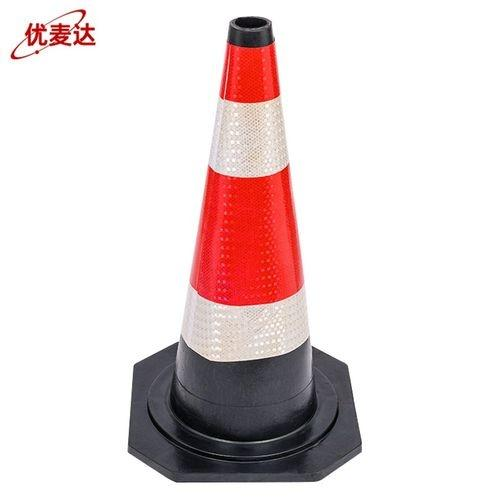cone_barrel: (143, 22, 338, 448)
